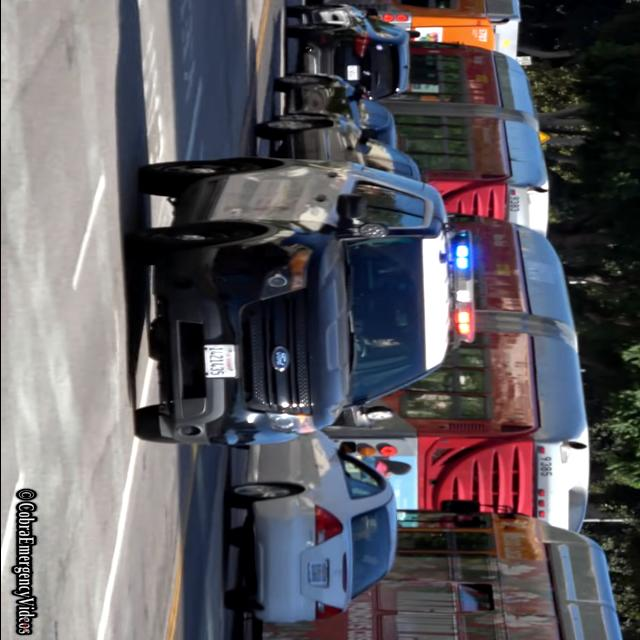emergency-vehicles: (96, 140, 490, 456)
